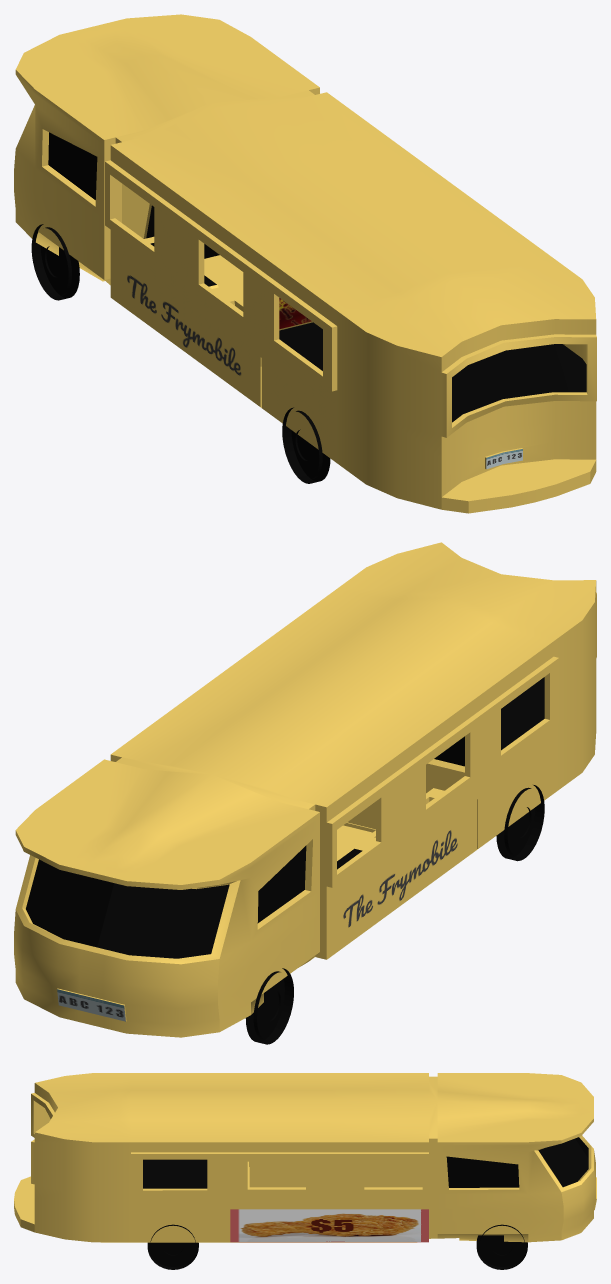
Rendered from food truck.fbx.
3 renders of one model, top to bottom at view 1: azimuth 30°, elevation 25°; view 2: azimuth 150°, elevation 25°; view 3: azimuth 270°, elevation 25°, orthographic. The views are drawn at different scales.
Parts seen in each view (by area): view 1: truck, Circle; view 2: truck, Circle; view 3: truck, Circle.
Boxes of the visible parts, x1,y1,x2,y2 form: truck: [14, 14, 596, 513]; Circle: [31, 224, 330, 483]; truck: [14, 542, 596, 1037]; Circle: [245, 785, 544, 1044]; truck: [14, 1073, 596, 1242]; Circle: [147, 1224, 527, 1269].
Size of the model in its own units: 211 by 181 by 713.
Materials: 1 (1 with a texture image).
